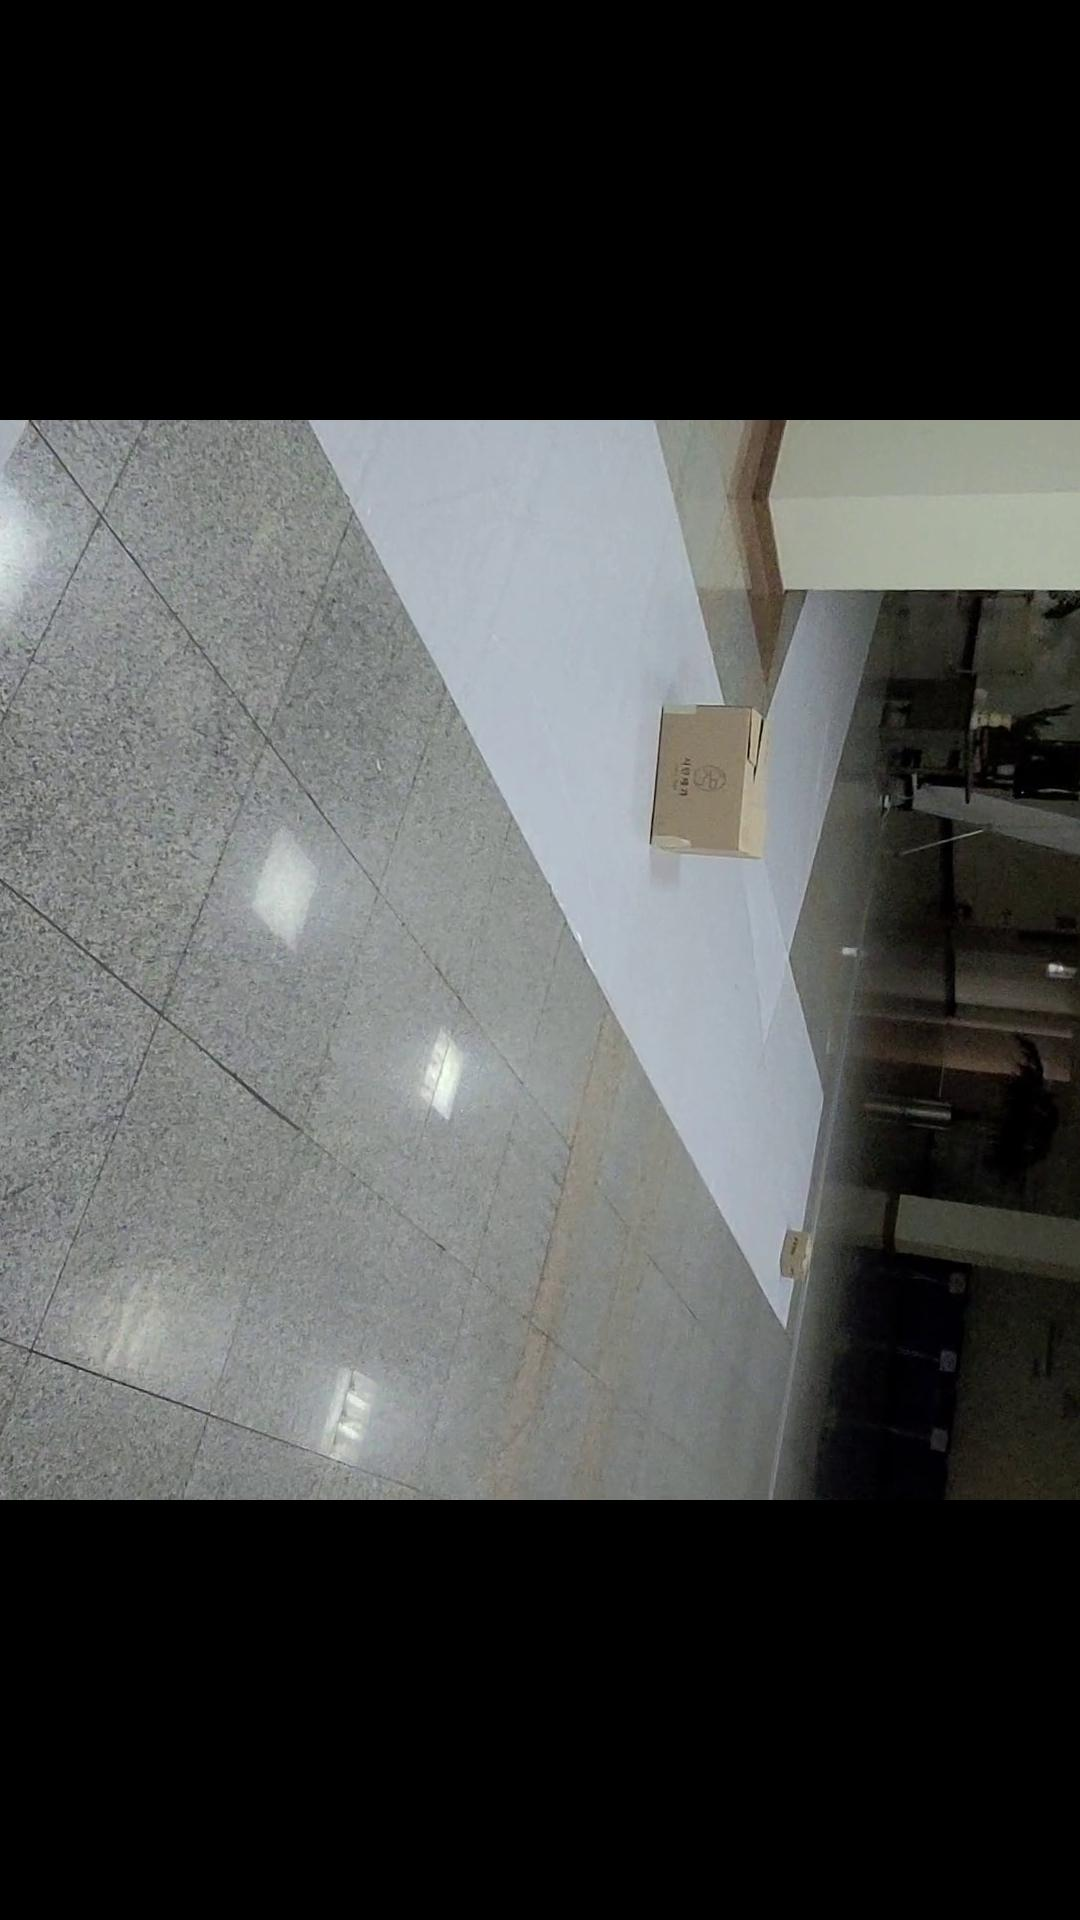Box: (607, 666, 802, 885), (765, 1196, 822, 1284)
